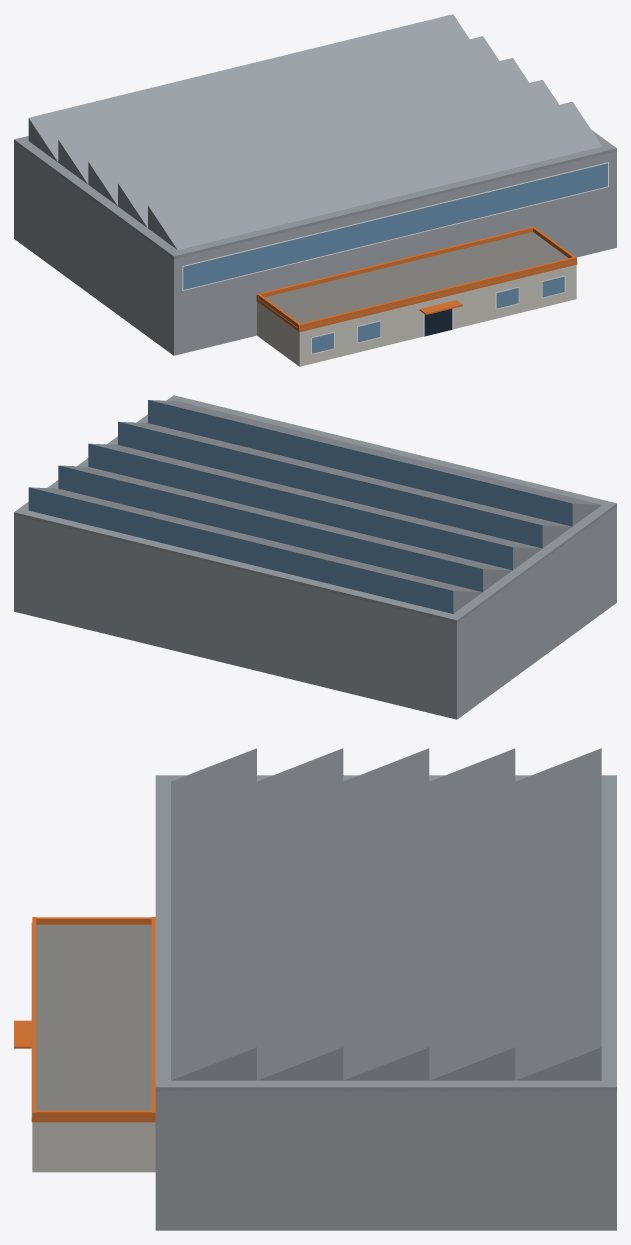
The model's file is salle_omnisport.glb.
3 renders of one model, top to bottom at view 1: azimuth 30°, elevation 25°; view 2: azimuth 150°, elevation 25°; view 3: azimuth 270°, elevation 25°, orthographic. The views are drawn at different scales.
Parts seen in each view (by area): view 1: salle_omnisport; view 2: salle_omnisport; view 3: salle_omnisport.
Part boxes in pixels (x1,y1,x2,y2): salle_omnisport: (14, 14, 616, 366); salle_omnisport: (14, 395, 616, 719); salle_omnisport: (14, 748, 616, 1230).
Size of the model in its own units: 48 by 12.7 by 39.2.
1 material, 1 textured.
